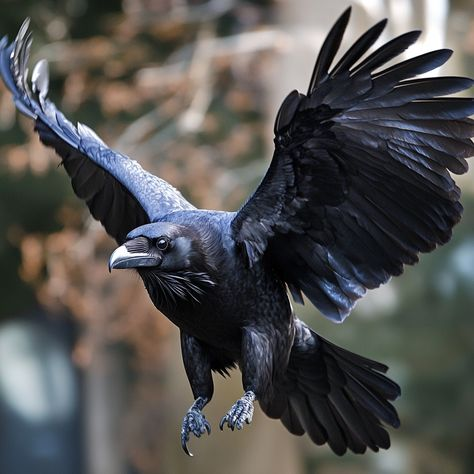ворон: (1, 20, 469, 459)
